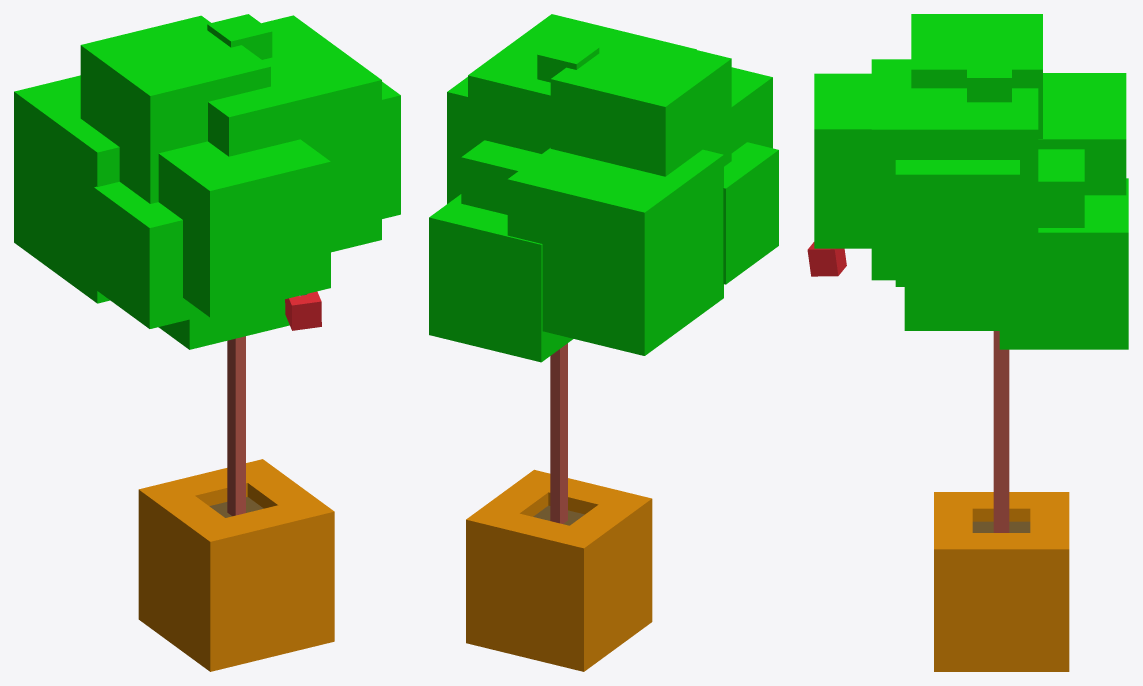
The model's file is elma agacıar.glb.
The picture shows the model from 3 angles, left to right: view 1: azimuth 30°, elevation 25°; view 2: azimuth 150°, elevation 25°; view 3: azimuth 270°, elevation 25°; orthographic projection. The views are drawn at different scales.
Parts seen in each view (by area): view 1: Cube, Cube.008, Cube.003, Cube.007, Cube.004, Cube.011, Cube.001, Cube.006, Cube.012, Cube.010, Elma; view 2: Cube.004, Cube, Cube.007, Cube.005, Cube.003, Cube.011, Cube.009, Cube.008, Cube.001, Cube.012, Cube.010; view 3: Cube, Cube.003, Cube.012, Cube.005, Cube.008, Cube.007, Cube.004, Cube.009, Cube.006, Cube.001, Cube.010, Elma (+1 smaller).
Part boxes in pixels (left/top/right/bottom): Cube: left=138, top=459, right=334, bottom=671; Cube.008: left=158, top=139, right=330, bottom=317; Cube.003: left=208, top=15, right=381, bottom=252; Cube.007: left=80, top=15, right=270, bottom=203; Cube.004: left=14, top=75, right=119, bottom=303; Cube.011: left=94, top=181, right=206, bottom=328; Cube.001: left=227, top=336, right=245, bottom=516; Cube.006: left=158, top=299, right=289, bottom=349; Cube.012: left=382, top=81, right=400, bottom=218; Cube.010: left=207, top=14, right=272, bottom=59; Elma: left=285, top=291, right=321, bottom=330; Cube.004: left=507, top=148, right=723, bottom=355; Cube: left=466, top=469, right=652, bottom=671; Cube.007: left=550, top=30, right=731, bottom=176; Cube.005: left=429, top=194, right=573, bottom=362; Cube.003: left=468, top=14, right=696, bottom=153; Cube.011: left=723, top=142, right=778, bottom=284; Cube.009: left=461, top=140, right=541, bottom=214; Cube.008: left=731, top=67, right=772, bottom=152; Cube.001: left=550, top=343, right=567, bottom=523; Cube.012: left=447, top=77, right=467, bottom=203; Cube.010: left=537, top=38, right=599, bottom=82; Cube: left=934, top=492, right=1069, bottom=671; Cube.003: left=871, top=59, right=1038, bottom=280; Cube.012: left=895, top=160, right=1019, bottom=286; Cube.005: left=999, top=178, right=1128, bottom=349; Cube.008: left=814, top=73, right=871, bottom=248; Cube.007: left=911, top=14, right=1042, bottom=138; Cube.004: left=1038, top=73, right=1126, bottom=195; Cube.009: left=949, top=149, right=1084, bottom=304; Cube.006: left=904, top=287, right=999, bottom=330; Cube.001: left=993, top=331, right=1009, bottom=532; Cube.010: left=967, top=59, right=1011, bottom=102; Elma: left=807, top=242, right=846, bottom=276.
Size of the model in its own units: 0.5621 by 1.22 by 0.6199.
